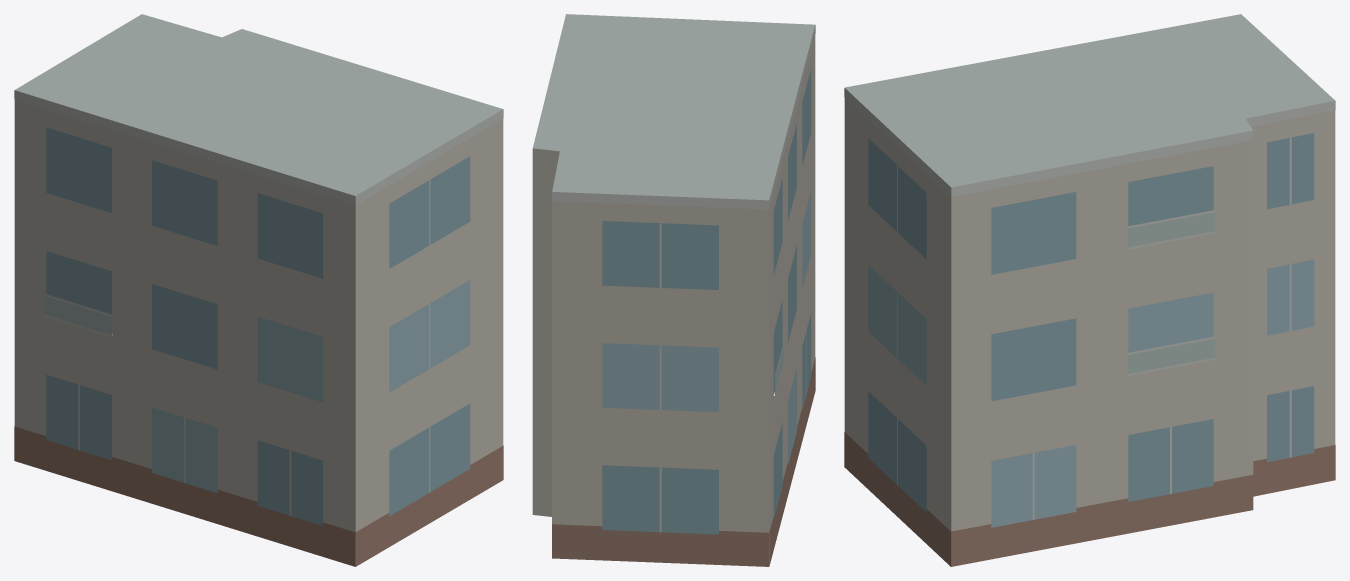
The model's file is survey-upis-32773316.glb.
The picture shows the model from 3 angles, left to right: view 1: azimuth 30°, elevation 25°; view 2: azimuth 150°, elevation 25°; view 3: azimuth 270°, elevation 25°; orthographic projection. The views are drawn at different scales.
Visible parts, largest first — view 1: survey-upis-32773316.tmp; view 2: survey-upis-32773316.tmp; view 3: survey-upis-32773316.tmp.
Part boxes in pixels (x1=…): survey-upis-32773316.tmp: x1=14, y1=14, x2=503, y2=566; survey-upis-32773316.tmp: x1=532, y1=14, x2=815, y2=566; survey-upis-32773316.tmp: x1=844, y1=14, x2=1335, y2=566.
Bounding box in the file's own units: 9.52 × 9.7 × 11.39.
